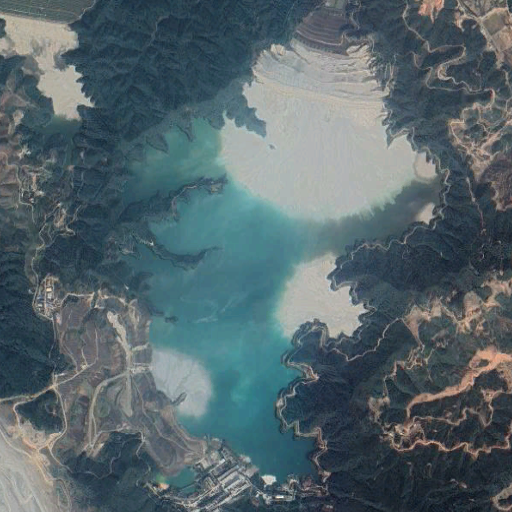tp: (123, 12, 443, 491)
